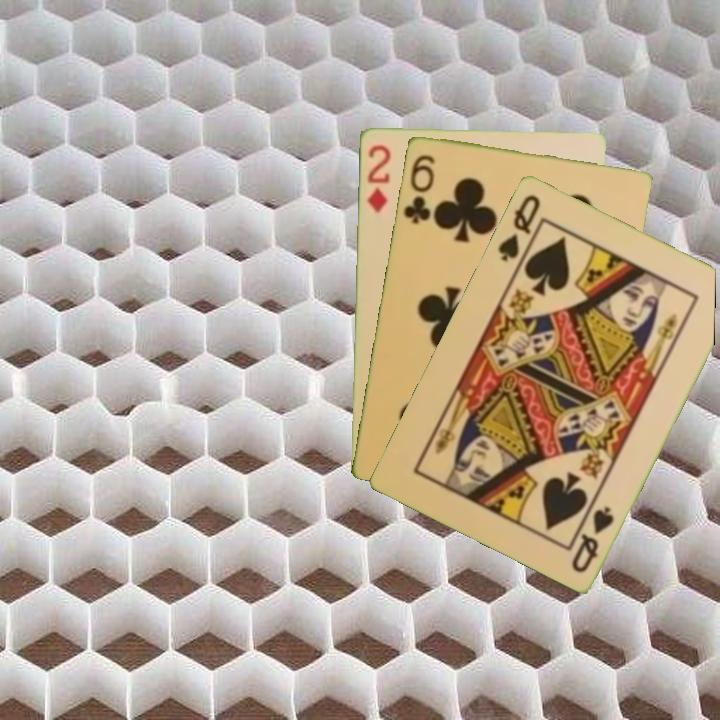2d: (363, 141, 393, 215)
6c: (399, 150, 437, 226)
Qs: (494, 190, 543, 264), (568, 502, 617, 575)
